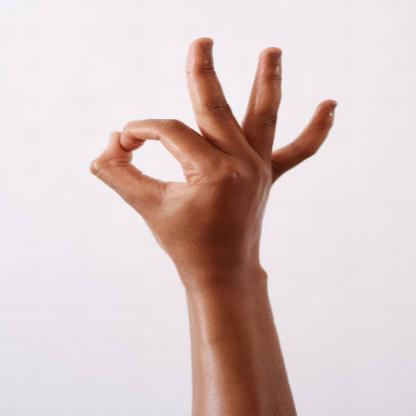ok: (83, 32, 341, 277)
